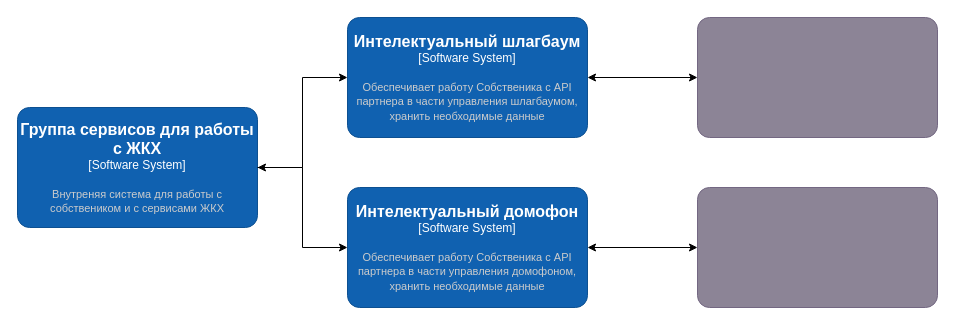
The diagram is 955 pixels wide and 325 high, and some of its shapes have lost their labels. Each missing label, with the centre of its shape:
"API партнера [Software System] Предоставляет доступ к домофону" goes at (817,247).
"API партнера [Software System] Предоставляет доступ к шлагбауму" goes at (817,77).
